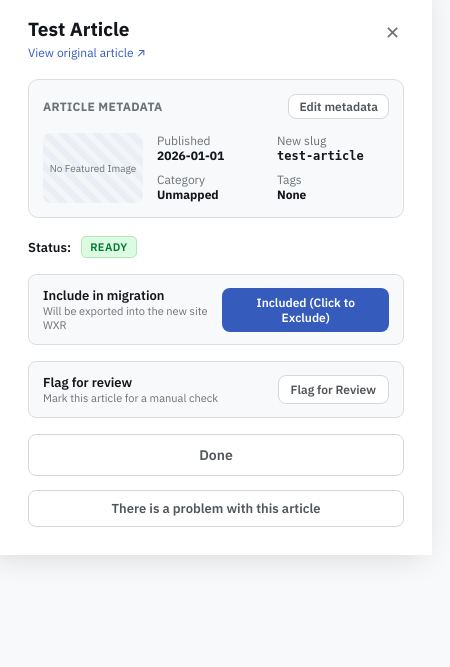
Test: ArticleSidebar debug copy › Cancel collapses the form without downloading
Click the button "There is a problem with this article" at (216, 508), box [28,490,404,527]
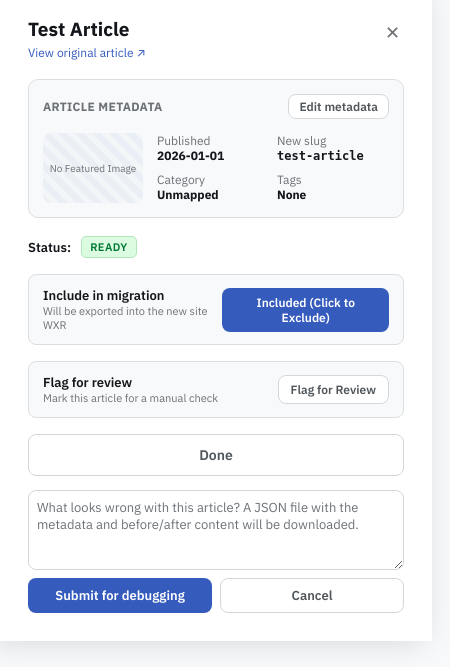
Click the button "Cancel" at (312, 596), box [220,578,404,613]
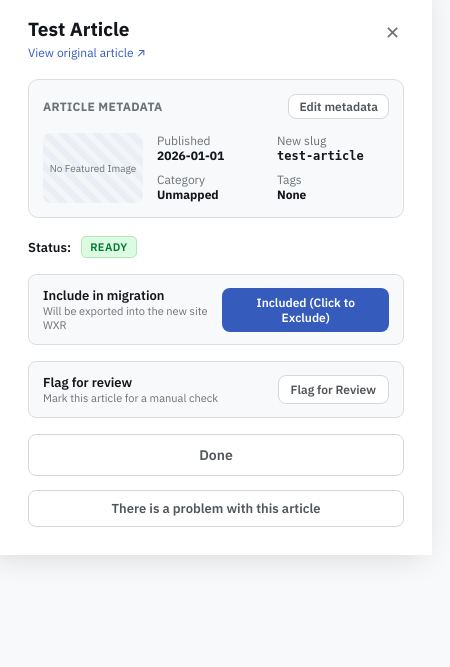
Expected: the button "There is a problem with this article" is shown, [28,490,404,527]
